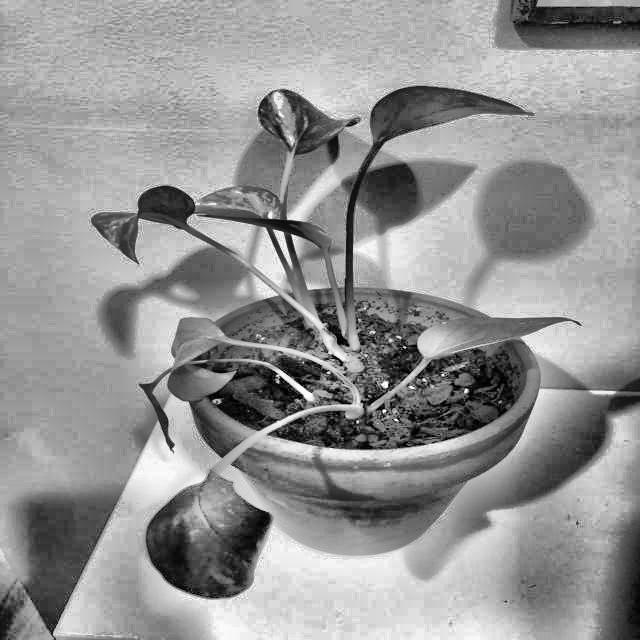plants: (80, 82, 584, 602), (84, 315, 386, 617)
